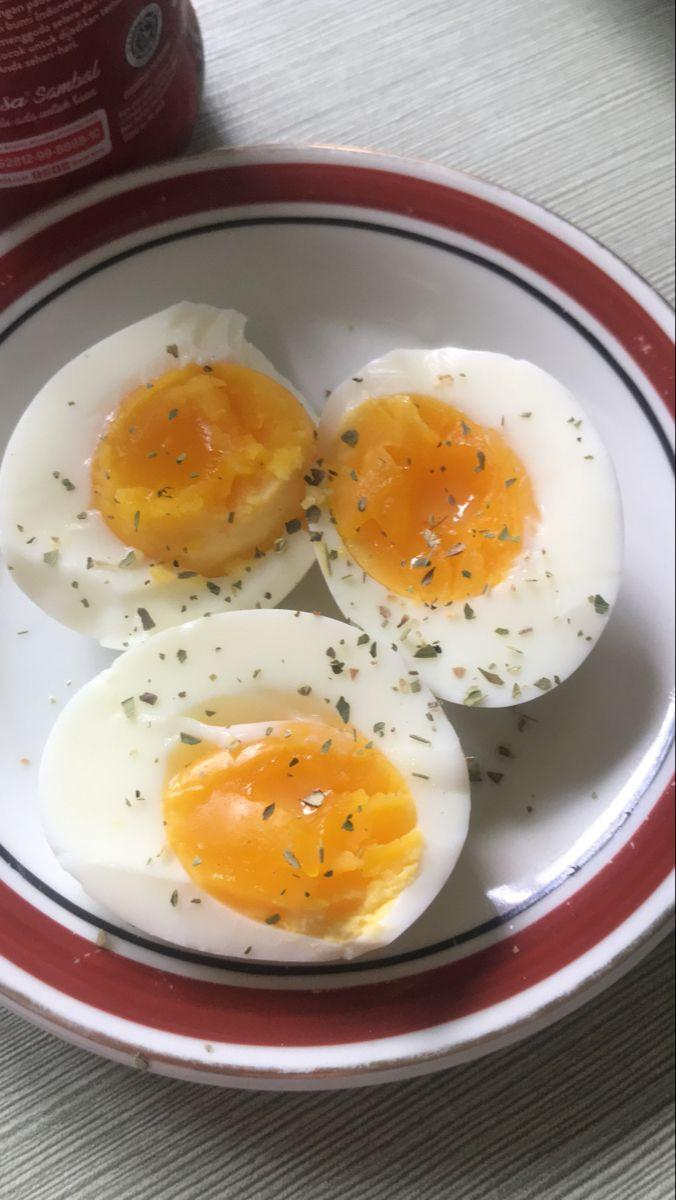eggs: (52, 288, 578, 959)
